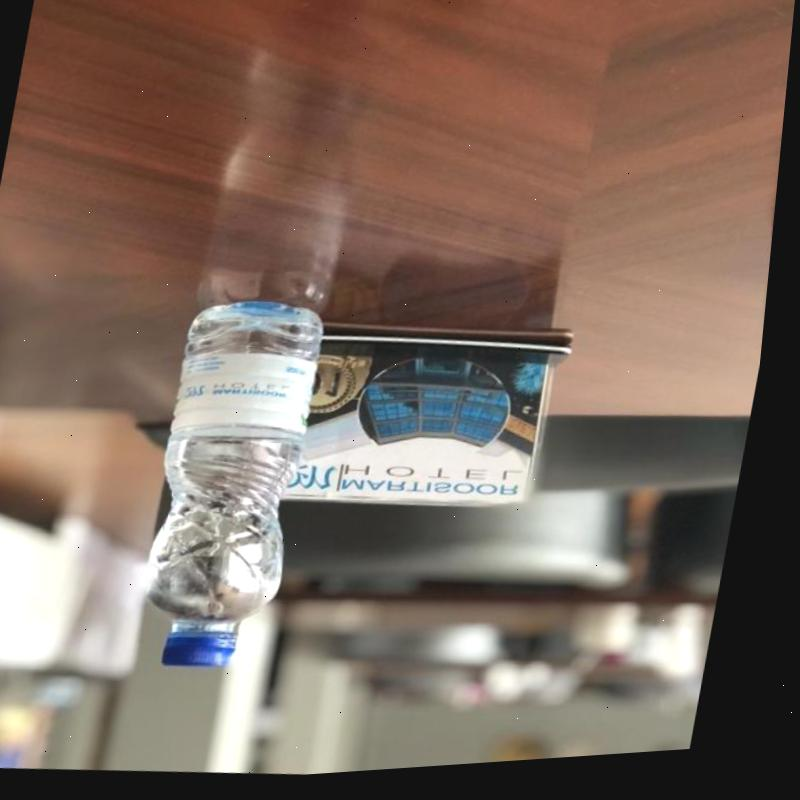botella: (137, 293, 341, 677)
